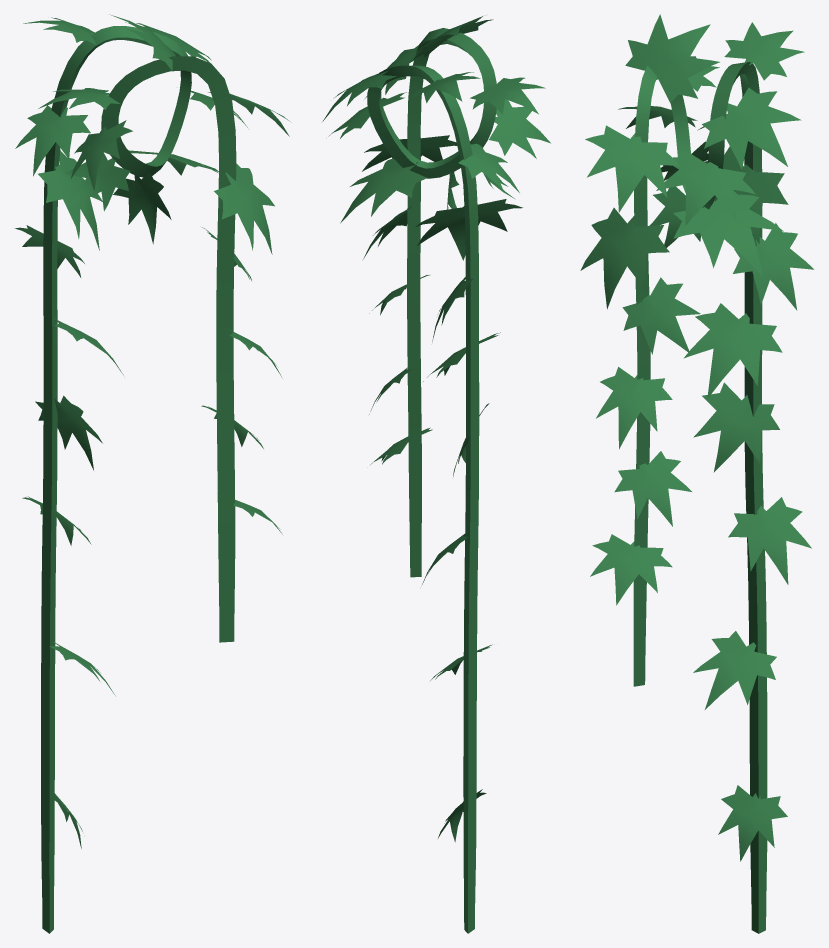
File: vine_M_alangium.fbx
3 views of the same model, side by side, from view 1: azimuth 30°, elevation 25°; view 2: azimuth 150°, elevation 25°; view 3: azimuth 270°, elevation 25° (orthographic). The views are drawn at different scales.
Parts seen in each view (by area): view 1: vine_M_alangium_root, vine_M_alangium_A_leaf_B63, vine_M_alangium_A_leaf_B61, vine_M_alangium_A_leaf_B70, vine_M_alangium_A_leaf_B55, vine_M_alangium_A_leaf_B, vine_M_alangium_A_leaf_B52, vine_M_alangium_A_leaf_B59, vine_M_alangium_A_leaf_B54, vine_M_alangium_A_leaf_B69, vine_M_alangium_A_leaf_B62, vine_M_alangium_A_leaf_B50; view 2: vine_M_alangium_root, vine_M_alangium_A_leaf_B58, vine_M_alangium_A_leaf_B70, vine_M_alangium_A_leaf_B52, vine_M_alangium_A_leaf_B54, vine_M_alangium_A_leaf_B61, vine_M_alangium_A_leaf_B63, vine_M_alangium_A_leaf_B50, vine_M_alangium_A_leaf_B56, vine_M_alangium_A_leaf_B62, vine_M_alangium_A_leaf_B49; view 3: vine_M_alangium_root, vine_M_alangium_A_leaf_B68, vine_M_alangium_A_leaf_B63, vine_M_alangium_A_leaf_B58, vine_M_alangium_A_leaf_B62, vine_M_alangium_A_leaf_B56, vine_M_alangium_A_leaf_B57, vine_M_alangium_A_leaf_B59, vine_M_alangium_A_leaf_B48, vine_M_alangium_A_leaf_B49, vine_M_alangium_A_leaf_B53, vine_M_alangium_A_leaf_B69 (+8 smaller).
Boxes of the visible parts, <box> form: vine_M_alangium_root: <box>41,26,236,933</box>; vine_M_alangium_A_leaf_B63: <box>214,163,274,254</box>; vine_M_alangium_A_leaf_B61: <box>15,105,90,176</box>; vine_M_alangium_A_leaf_B70: <box>38,150,102,250</box>; vine_M_alangium_A_leaf_B55: <box>113,171,171,244</box>; vine_M_alangium_A_leaf_B: <box>63,152,130,211</box>; vine_M_alangium_A_leaf_B52: <box>71,120,132,190</box>; vine_M_alangium_A_leaf_B59: <box>35,395,102,470</box>; vine_M_alangium_A_leaf_B54: <box>38,88,120,109</box>; vine_M_alangium_A_leaf_B69: <box>14,225,84,277</box>; vine_M_alangium_A_leaf_B62: <box>110,14,180,70</box>; vine_M_alangium_A_leaf_B50: <box>23,17,96,44</box>; vine_M_alangium_root: <box>367,28,496,933</box>; vine_M_alangium_A_leaf_B58: <box>340,154,426,223</box>; vine_M_alangium_A_leaf_B70: <box>415,199,522,260</box>; vine_M_alangium_A_leaf_B52: <box>489,99,550,158</box>; vine_M_alangium_A_leaf_B54: <box>470,77,545,114</box>; vine_M_alangium_A_leaf_B61: <box>458,143,519,192</box>; vine_M_alangium_A_leaf_B63: <box>362,135,457,171</box>; vine_M_alangium_A_leaf_B50: <box>409,72,480,103</box>; vine_M_alangium_A_leaf_B56: <box>322,71,396,121</box>; vine_M_alangium_A_leaf_B62: <box>411,16,493,61</box>; vine_M_alangium_A_leaf_B49: <box>328,92,406,138</box>; vine_M_alangium_root: <box>633,62,767,933</box>; vine_M_alangium_A_leaf_B68: <box>683,303,782,398</box>; vine_M_alangium_A_leaf_B63: <box>580,208,669,309</box>; vine_M_alangium_A_leaf_B58: <box>673,191,783,277</box>; vine_M_alangium_A_leaf_B62: <box>625,14,719,102</box>; vine_M_alangium_A_leaf_B56: <box>702,87,801,169</box>; vine_M_alangium_A_leaf_B57: <box>585,125,680,212</box>; vine_M_alangium_A_leaf_B59: <box>693,382,779,472</box>; vine_M_alangium_A_leaf_B48: <box>728,497,811,584</box>; vine_M_alangium_A_leaf_B49: <box>656,150,755,225</box>; vine_M_alangium_A_leaf_B53: <box>693,631,776,709</box>; vine_M_alangium_A_leaf_B69: <box>733,223,813,310</box>.
Size of the model in its own units: 68.16 by 283 by 64.55.
